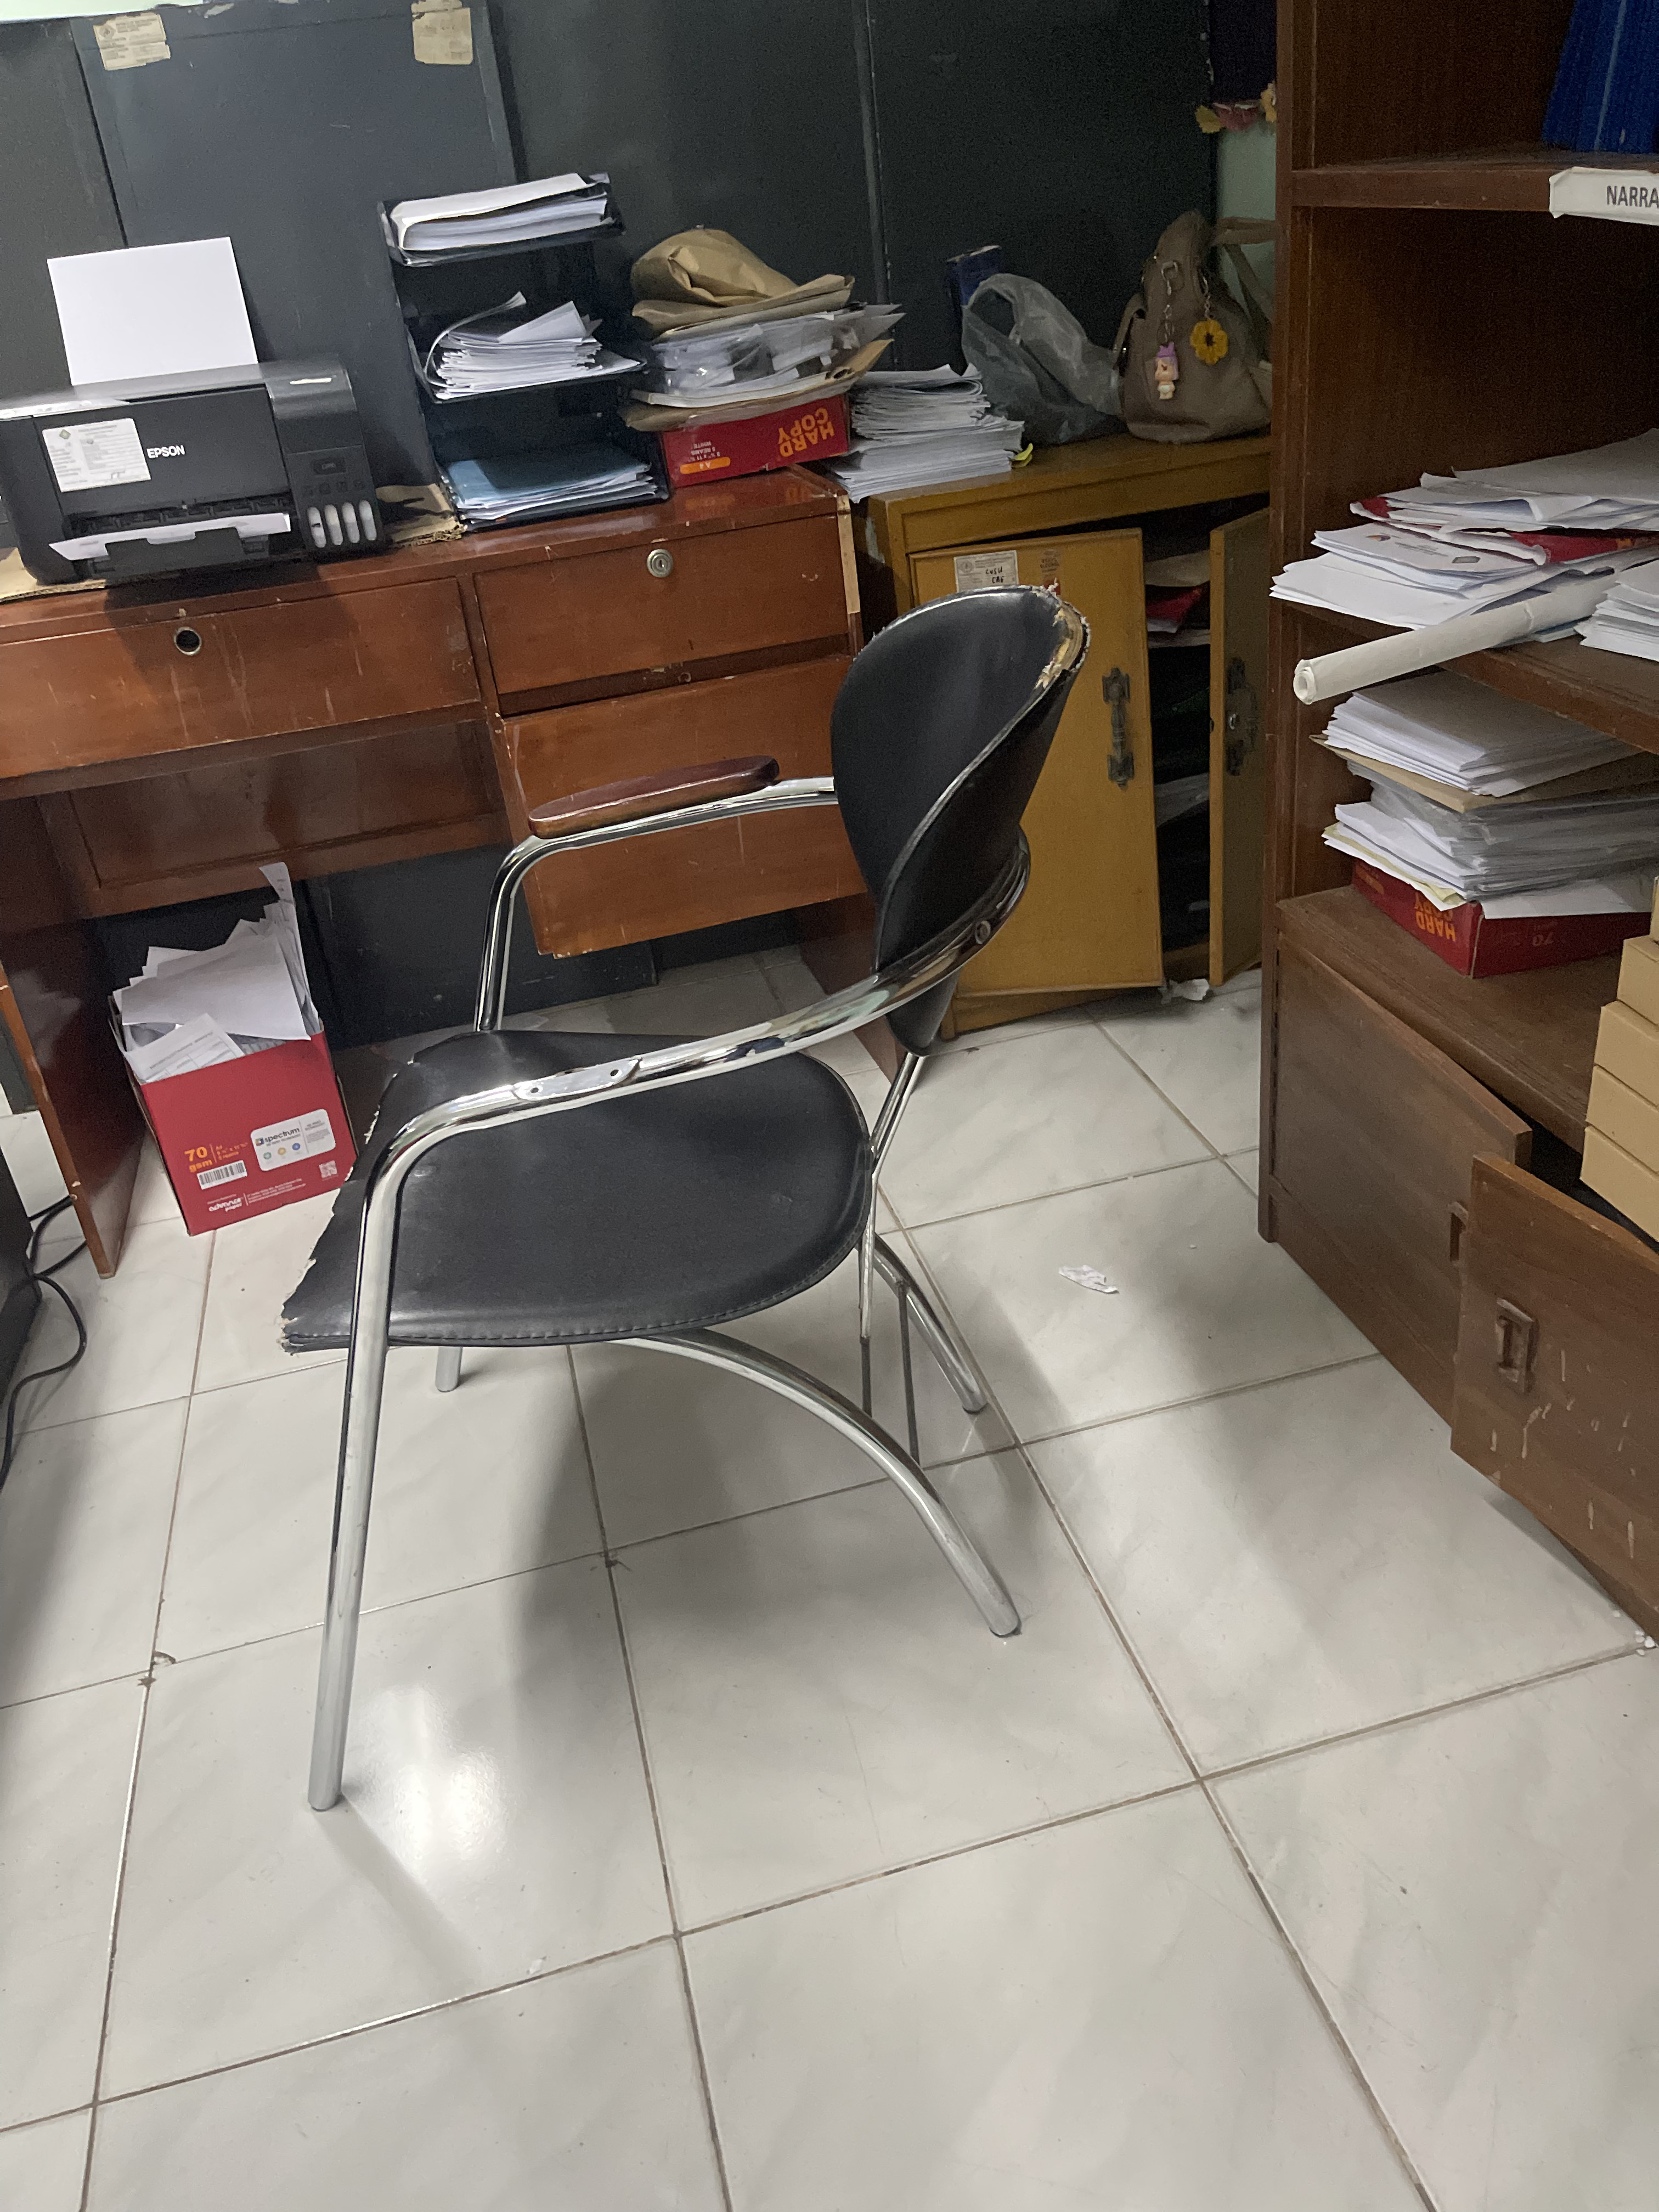chair1: (275, 577, 1091, 1815)
